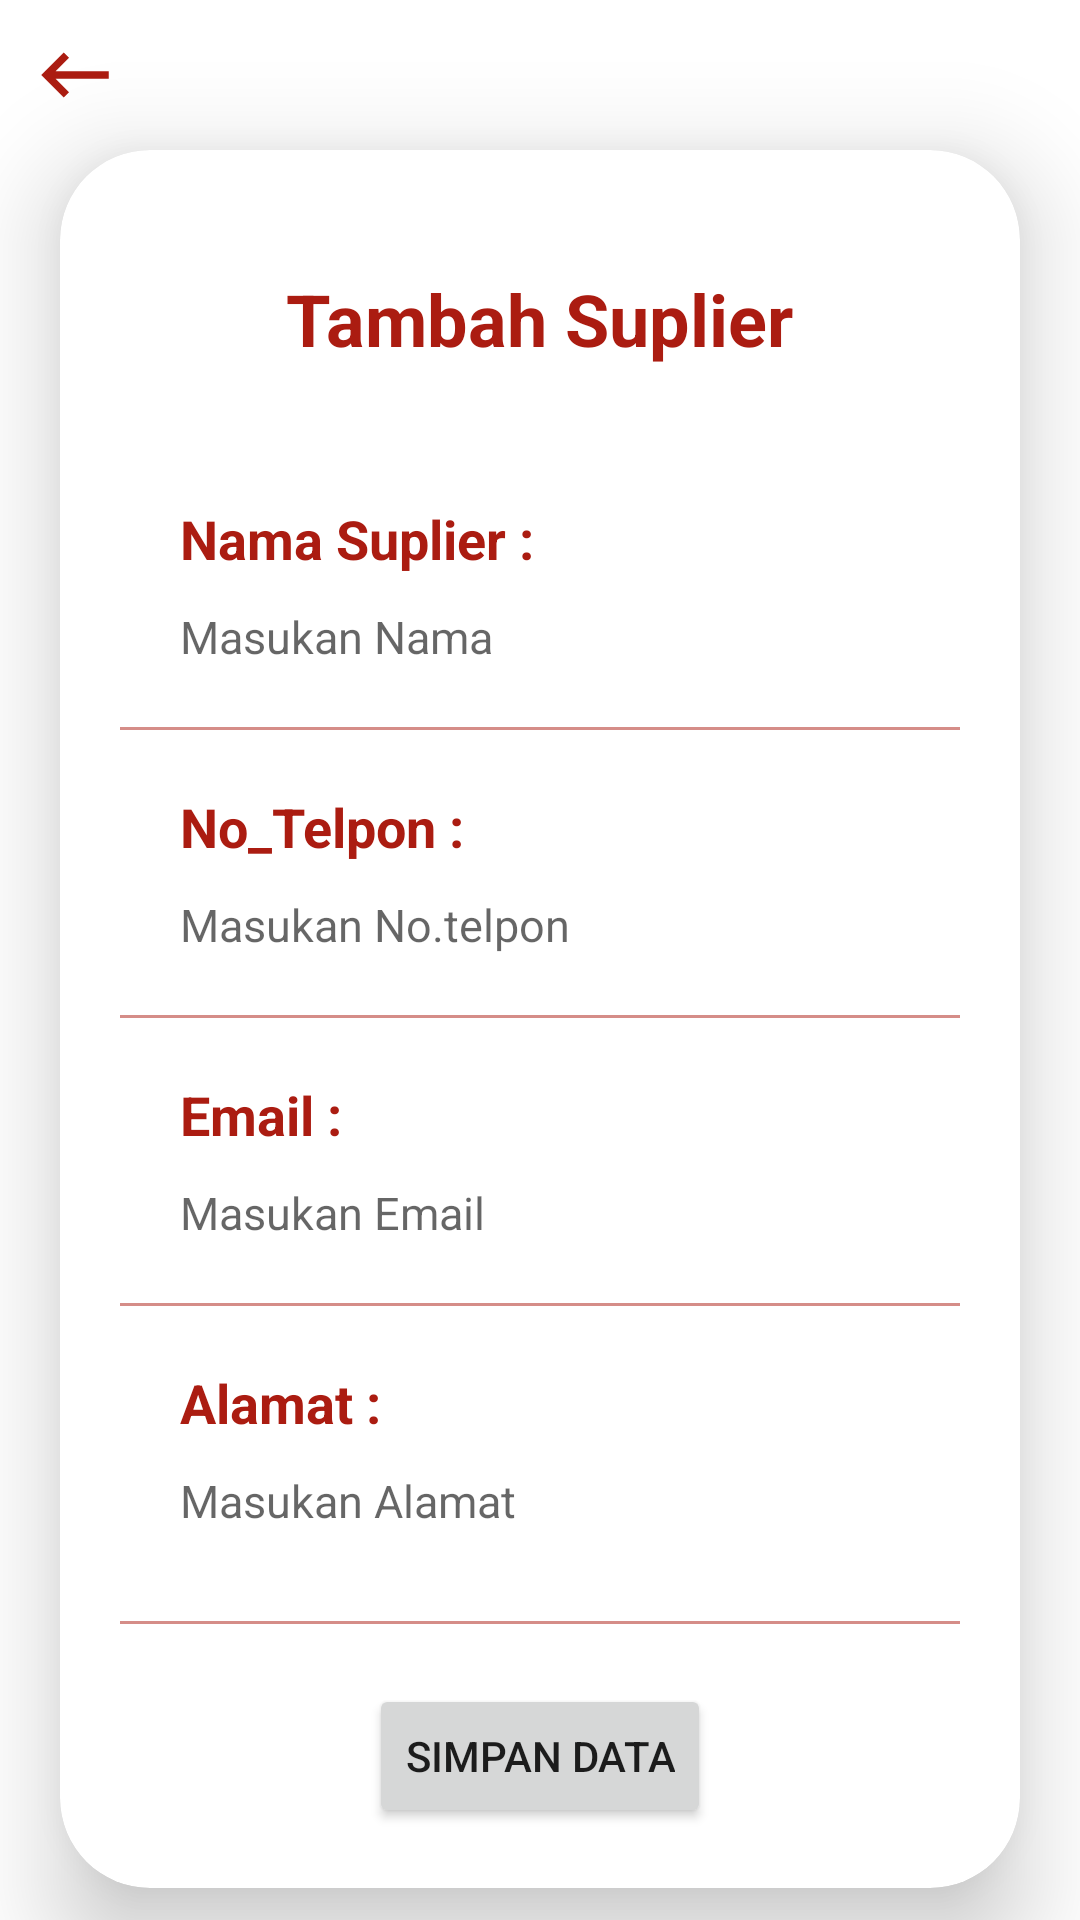

Named icons in this screenshot (1080 × 1920) and their bounding boxes, (x1, y1, x2, y2):
keyboard backspace: (41, 52, 109, 98)
